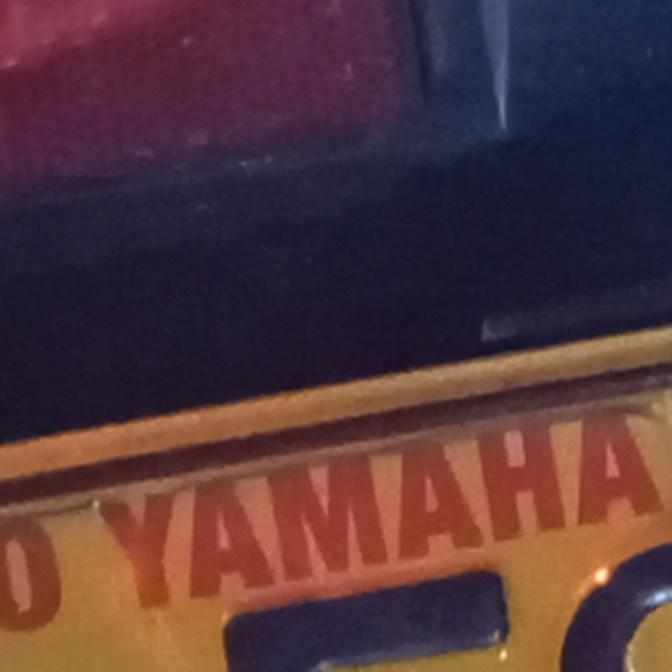plates: (0, 324, 672, 672)
